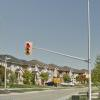Traffic light: (18, 39, 42, 59)
